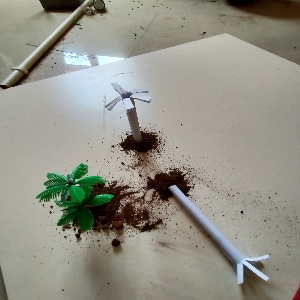plant: (31, 161, 116, 238)
weed: (164, 181, 278, 287), (101, 75, 158, 141)
